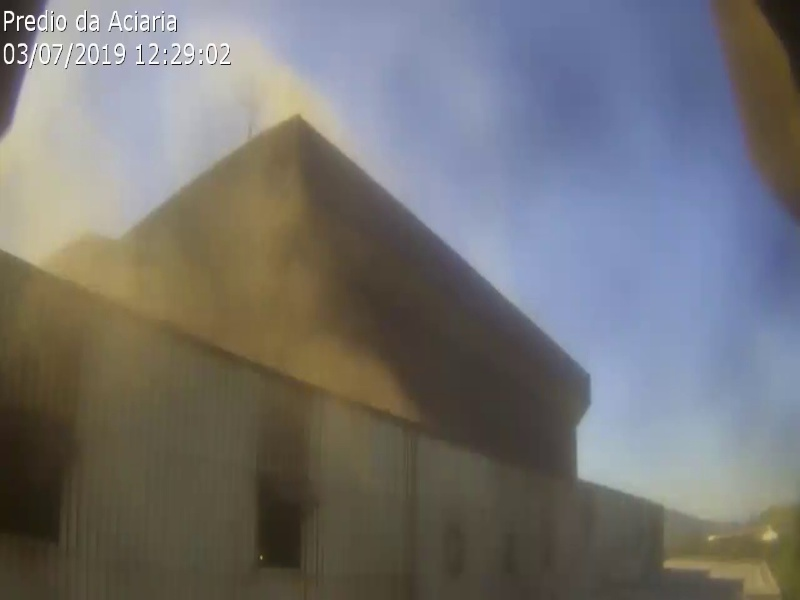Galpao: (1, 249, 594, 600)
Janela: (257, 472, 314, 577)
Pessimo: (147, 230, 255, 295), (42, 277, 144, 340), (145, 291, 229, 347), (197, 265, 275, 321), (55, 192, 110, 261), (107, 249, 168, 309), (239, 301, 306, 349), (236, 174, 275, 211)
